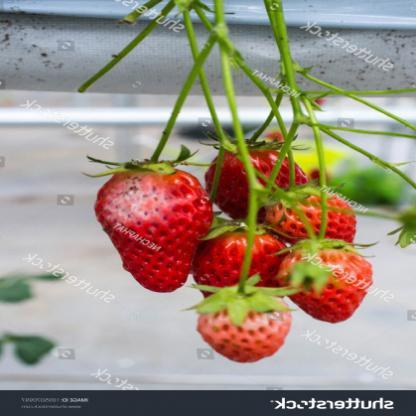Strawberry_Powdery_Mildew_Fruit: (100, 174, 176, 228)
